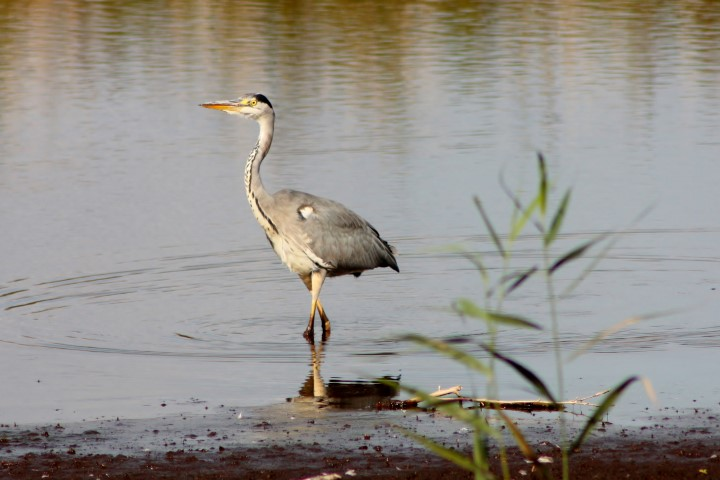heron: (193, 88, 405, 402)
